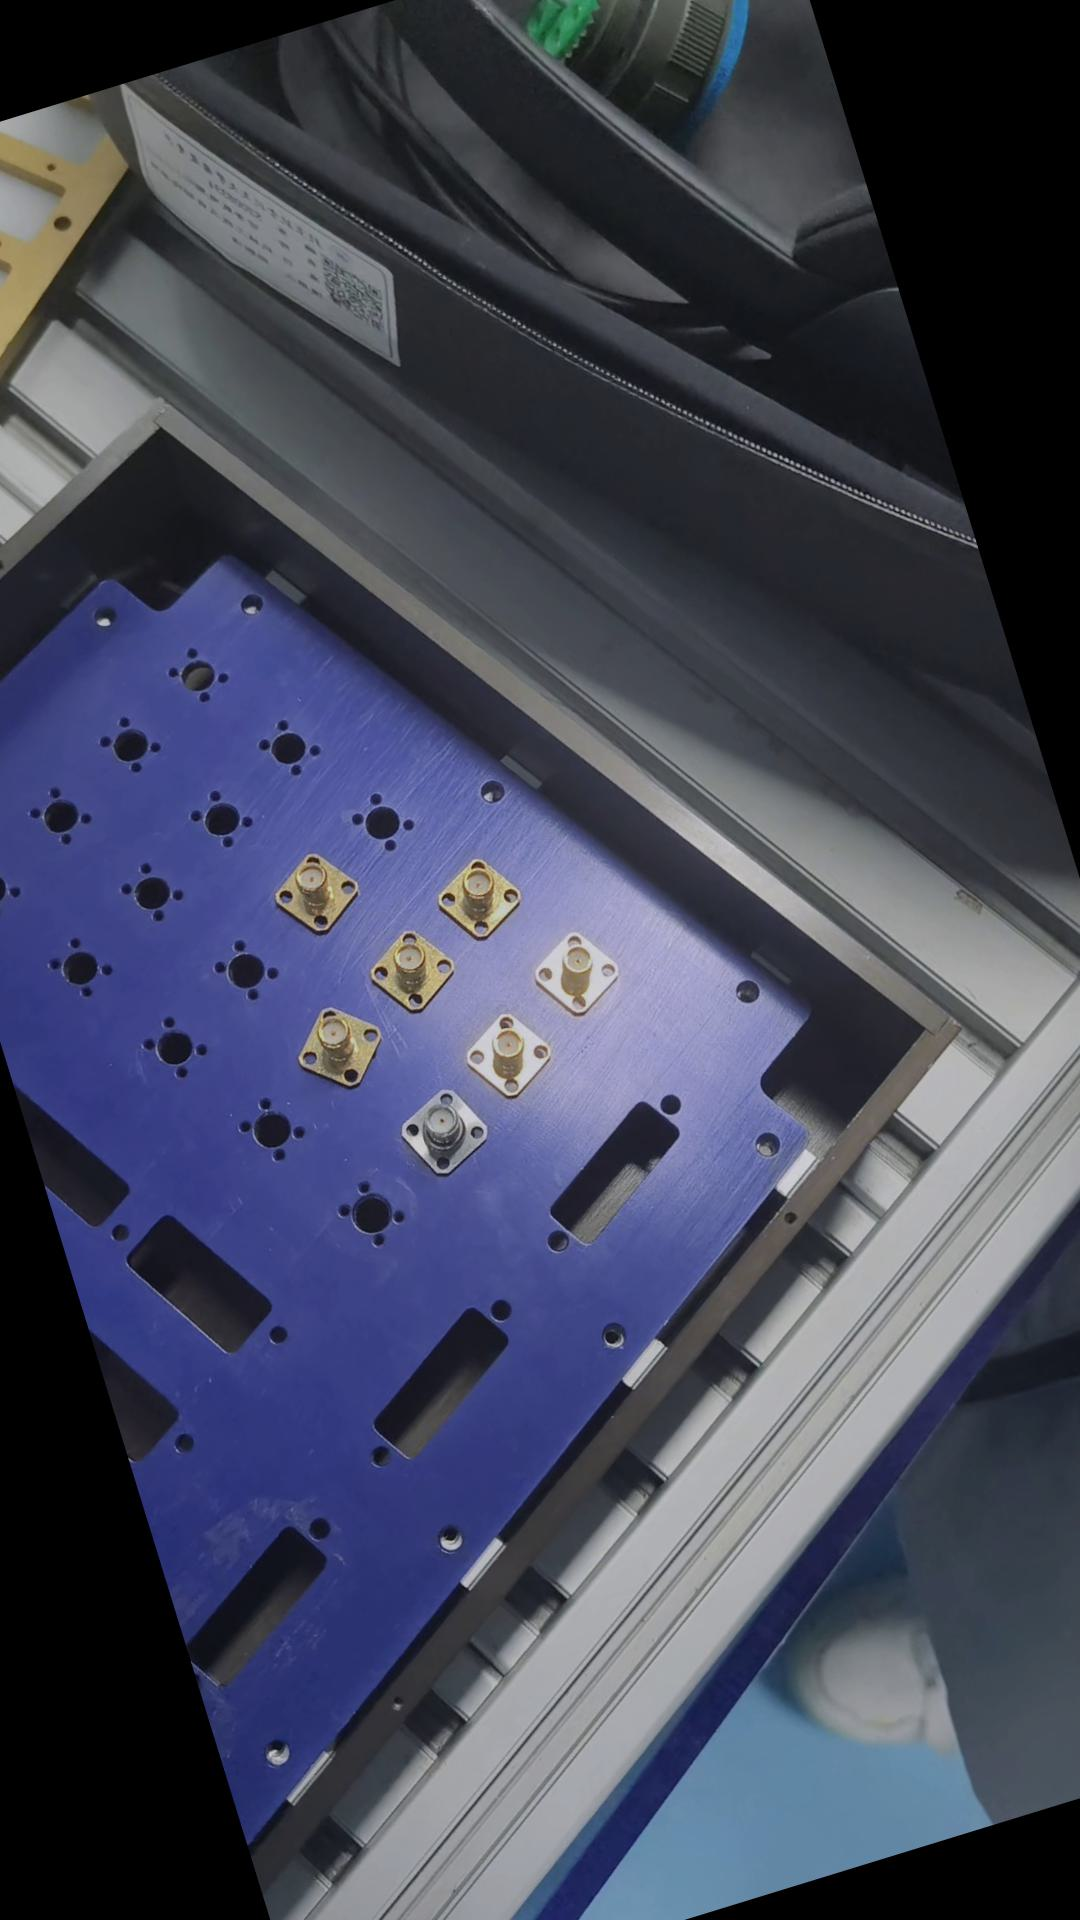SMA: (388, 1077, 497, 1189), (280, 996, 388, 1101), (353, 916, 458, 1025), (450, 1001, 553, 1109), (262, 844, 367, 945), (525, 920, 625, 1025), (423, 847, 524, 949)
